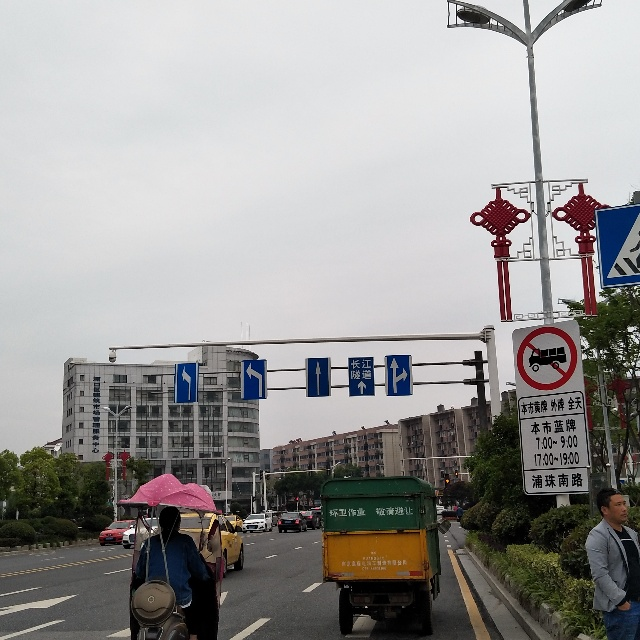left: (245, 361, 266, 404), (176, 363, 198, 401)
straight: (309, 358, 329, 394)
